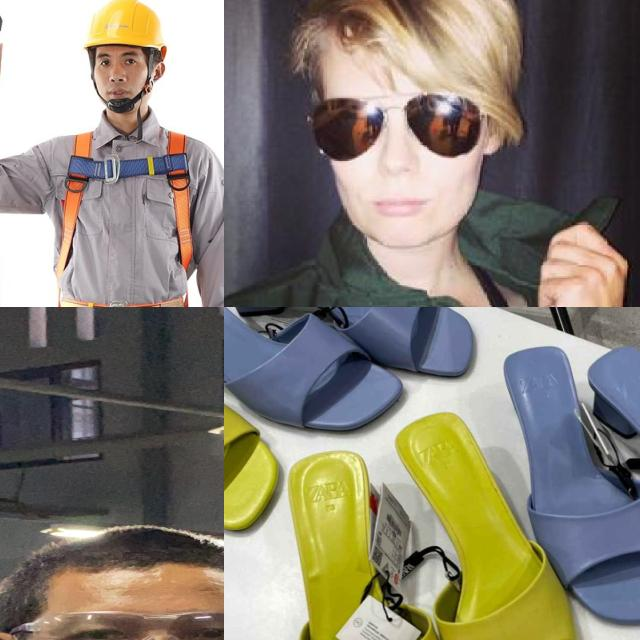Harness: (42, 124, 198, 307)
No_Glasses: (97, 52, 140, 72)
Sandals: (266, 398, 599, 640), (496, 315, 640, 640)
face_mask: (22, 600, 224, 640)
face_nomask: (320, 88, 467, 223)
glasses: (303, 86, 503, 160), (1, 604, 224, 640)
hand_noglove: (528, 215, 635, 307)
head_nohelmet: (8, 524, 224, 602), (289, 0, 513, 69)
person: (224, 0, 640, 307)
